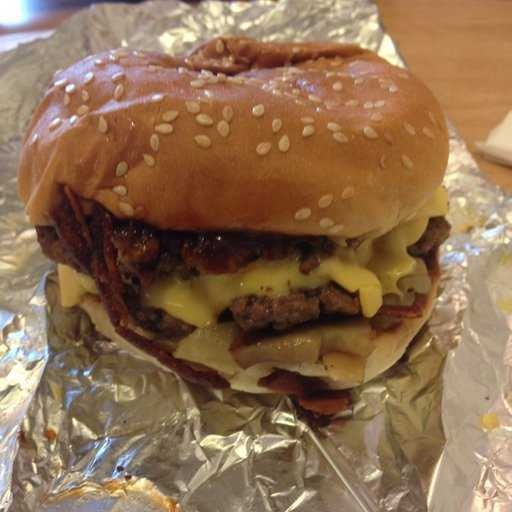hamburger: (32, 41, 469, 394)
